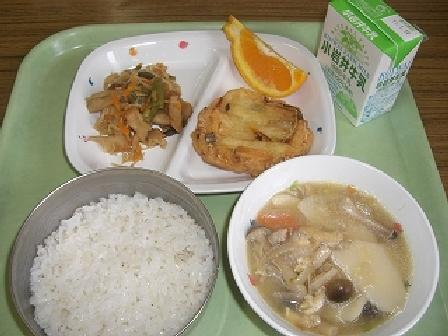Citrus: (214, 4, 309, 94)
Milk: (314, 2, 420, 116)
Rice: (14, 164, 216, 334)
Soups: (230, 157, 439, 330)
casserole with meat and vegetables: (191, 89, 314, 174)
vegetable based cooked food: (76, 57, 190, 157)
